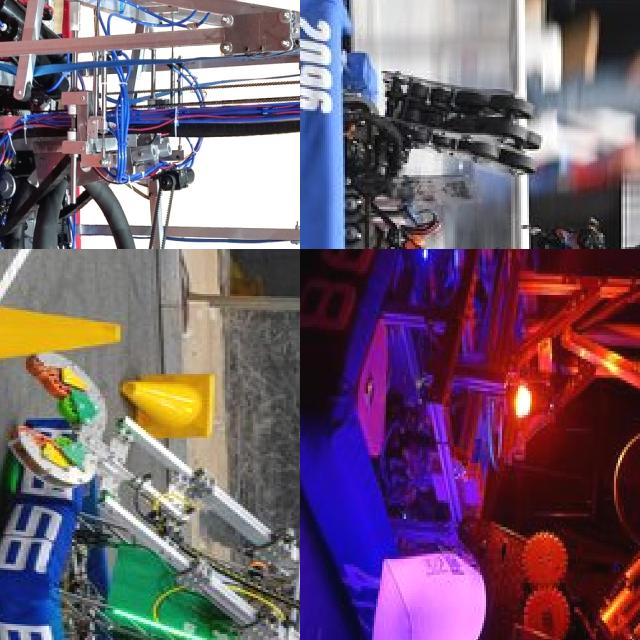FRC-Robots: (300, 249, 640, 640), (0, 351, 300, 640), (300, 0, 640, 249), (0, 0, 300, 249)
